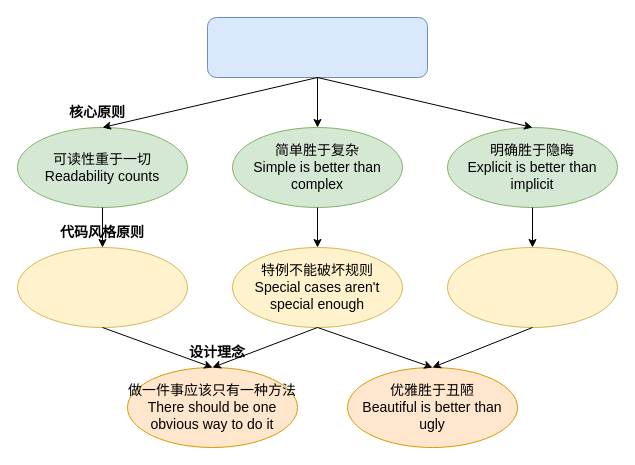
This 635x465 diagram has some shape labels left out. Here are the shapes that lost their labels. From the top down, the centre of each, then its label:
At point 317,47: "The Zen of Python".
At point 102,287: "扁平胜于嵌套 Flat is better than nested".
At point 532,287: "实用性胜于纯粹性 Practicality beats purity".
